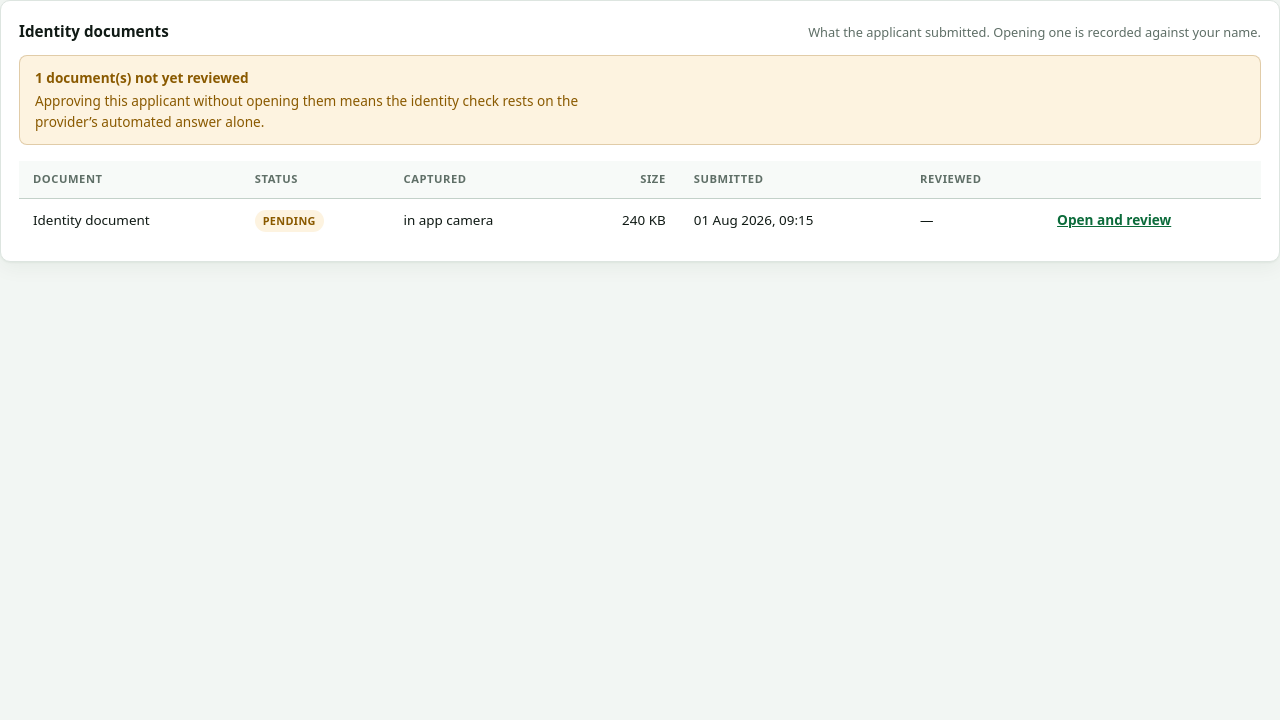
Test: deciding on a document › shows the server’s refusal rather than reporting a decision that did not happen
This screenshot has width=1280, height=720.
Click the button "Open and review" at (1114,220), box [1057,210,1171,230]
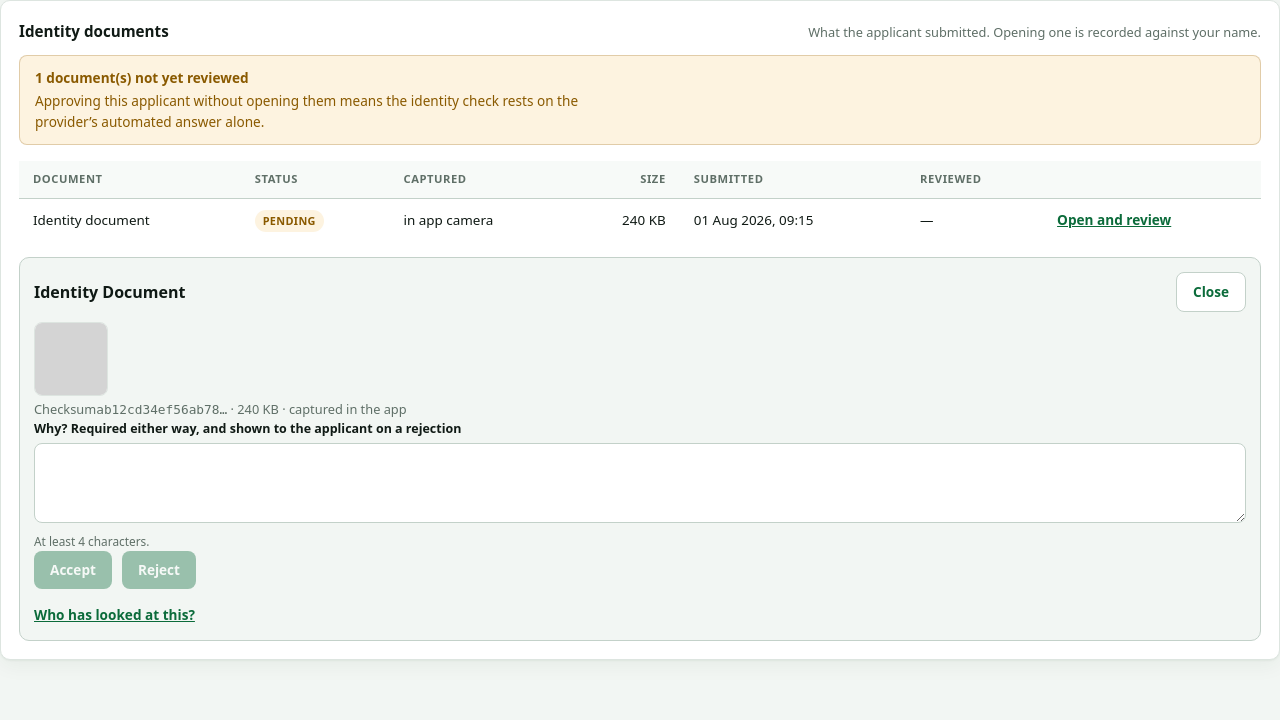
Type "Looks correct to me." into the text box labelled "Why" at (640,483), box [34,443,1246,523]
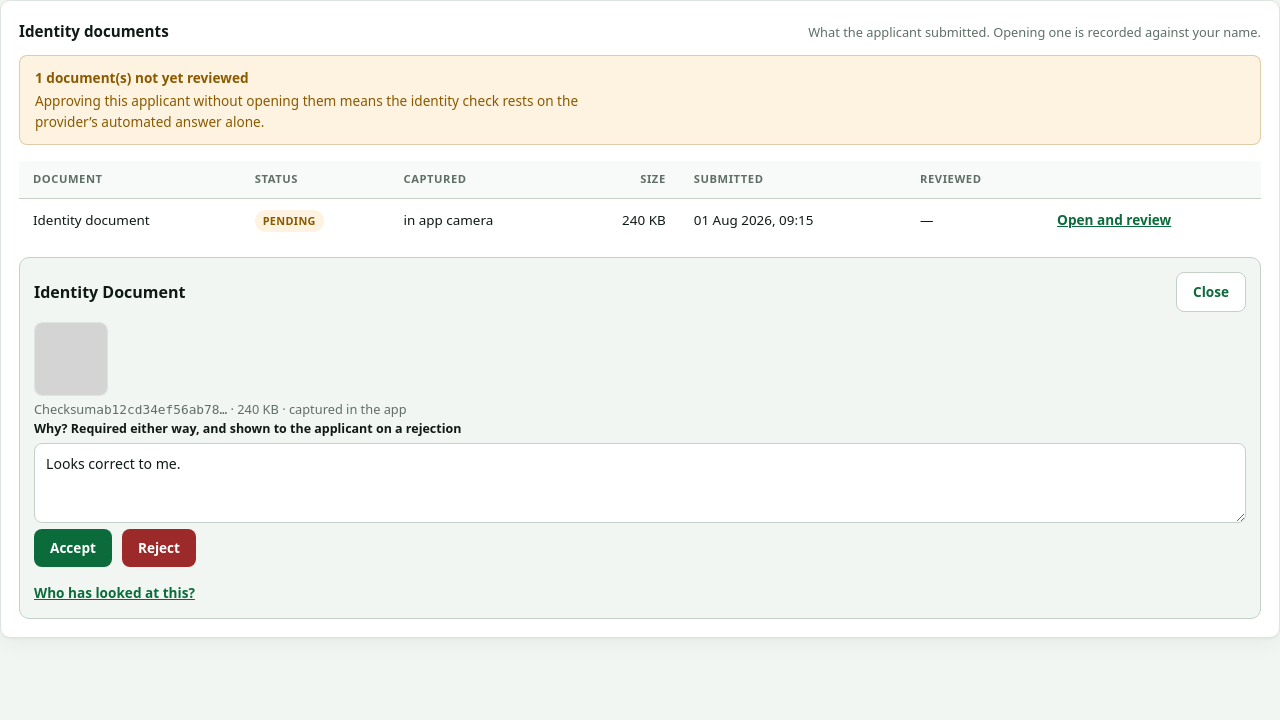
Click the button "Accept" at (73,548), box [34,529,112,567]
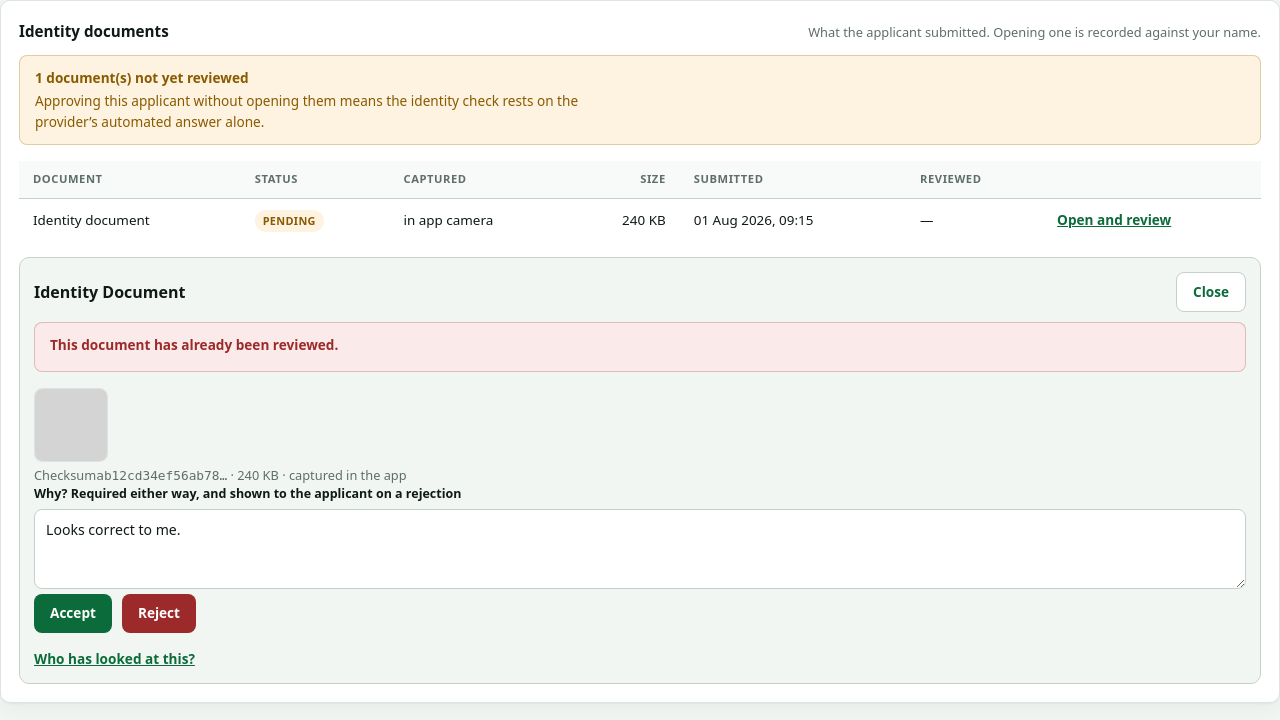
Expected: the text "This document has already been reviewed." is shown, [50,336,338,354]
